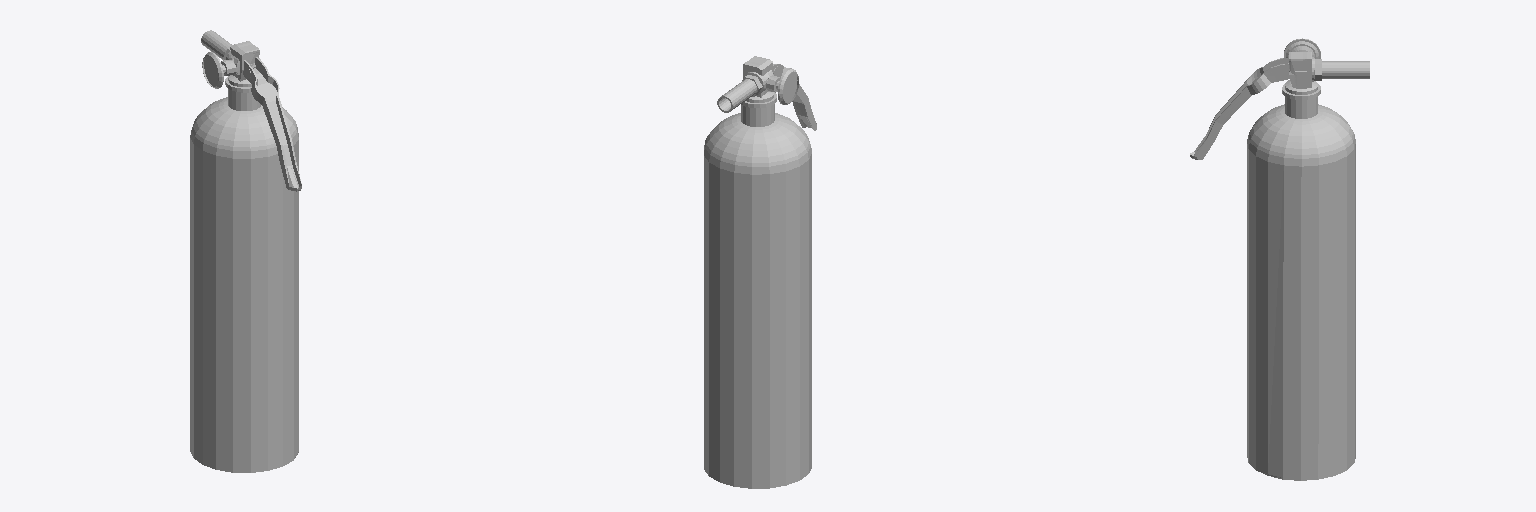
Rendered from static_fire_extinguisher_body.obj.
The picture shows the model from 3 angles: view 1: azimuth 30°, elevation 25°; view 2: azimuth 150°, elevation 25°; view 3: azimuth 270°, elevation 25°; orthographic projection.
Parts seen in each view (by area): view 1: pCylinder12; view 2: pCylinder12; view 3: pCylinder12.
Boxes of the visible parts, x1,y1,x2,y2 form: pCylinder12: [190, 30, 301, 472]; pCylinder12: [704, 56, 816, 488]; pCylinder12: [1190, 38, 1369, 480].
Size of the model in its own units: 26.61 by 109 by 44.02.